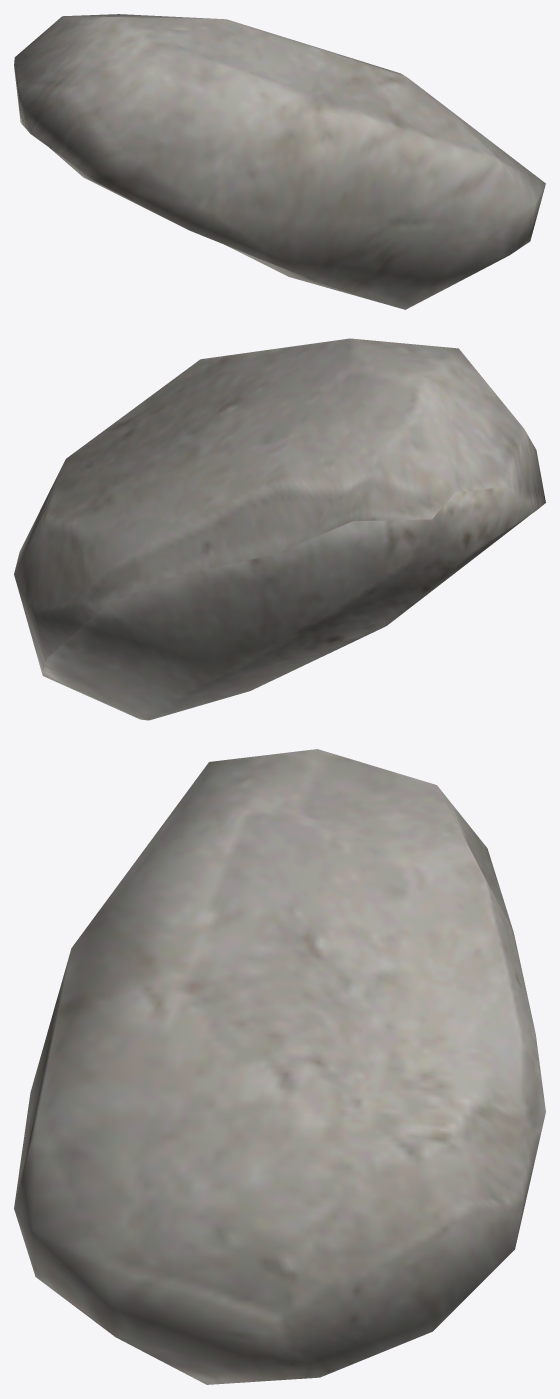
File: Rock_01.glb
3 renders of one model, top to bottom at view 1: azimuth 30°, elevation 25°; view 2: azimuth 150°, elevation 25°; view 3: azimuth 270°, elevation 25°, orthographic. The views are drawn at different scales.
Parts seen in each view (by area): view 1: rock_01; view 2: rock_01; view 3: rock_01.
Boxes of the visible parts, <box> form: rock_01: <box>14,14,545,309</box>; rock_01: <box>14,338,545,720</box>; rock_01: <box>14,749,545,1384</box>.
Size of the model in its own units: 1.61 by 1.14 by 1.2.
Materials: 1 (1 with a texture image).
